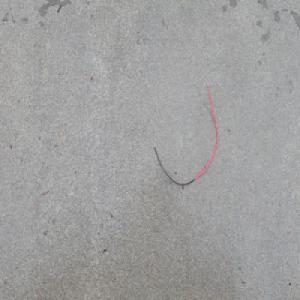Wire: (148, 80, 218, 187)
